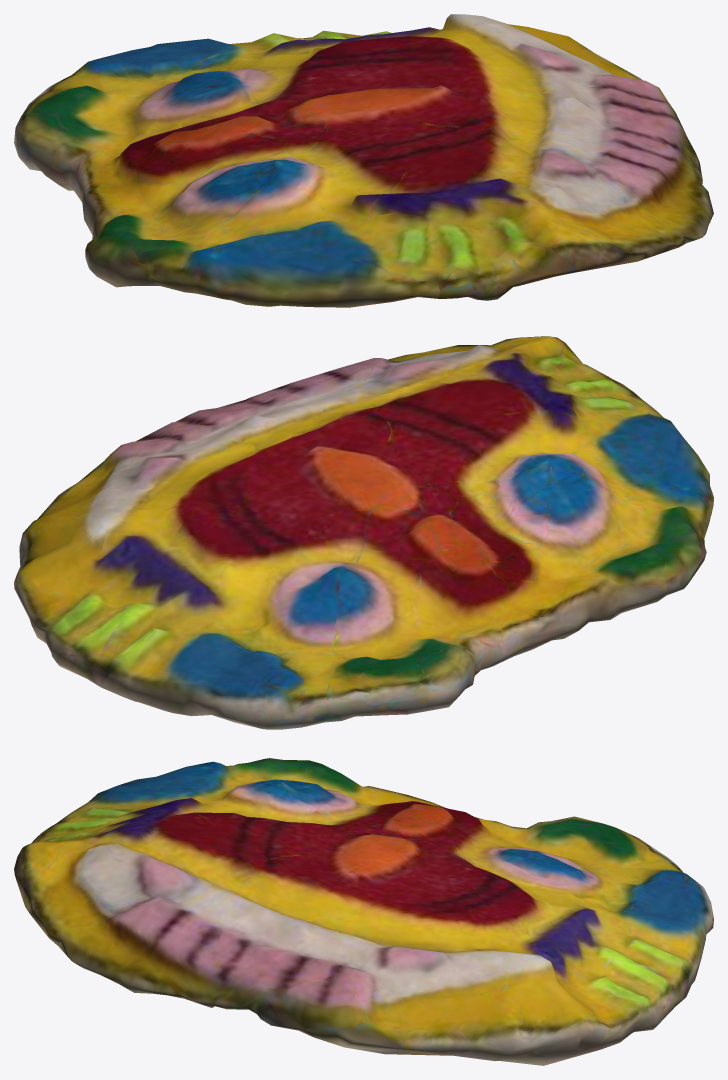
Rendered from hall.glb.
The picture shows the model from 3 angles, top to bottom: view 1: azimuth 30°, elevation 25°; view 2: azimuth 150°, elevation 25°; view 3: azimuth 270°, elevation 25°; orthographic projection. The views are drawn at different scales.
Bounding box in the file's own units: 0.6535 × 0.1563 × 0.7439.
1 material, 1 textured.
